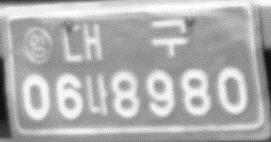0: (217, 65, 250, 114), (21, 72, 51, 122)
6: (55, 72, 84, 120)
8: (180, 69, 212, 117), (111, 69, 139, 117)
9: (144, 70, 175, 119)
나: (85, 70, 111, 116)
대구_D: (59, 17, 189, 63)
영: (21, 27, 55, 65)
